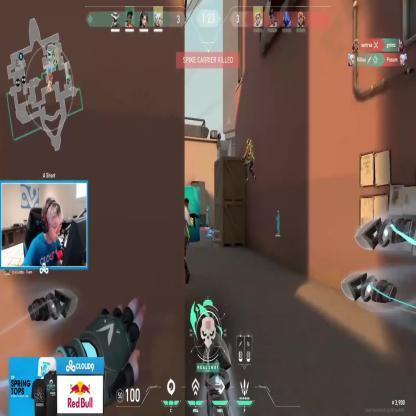enemy: (176, 196, 197, 285), (240, 138, 257, 186)
enemy_head: (184, 197, 190, 209), (246, 139, 252, 149)
